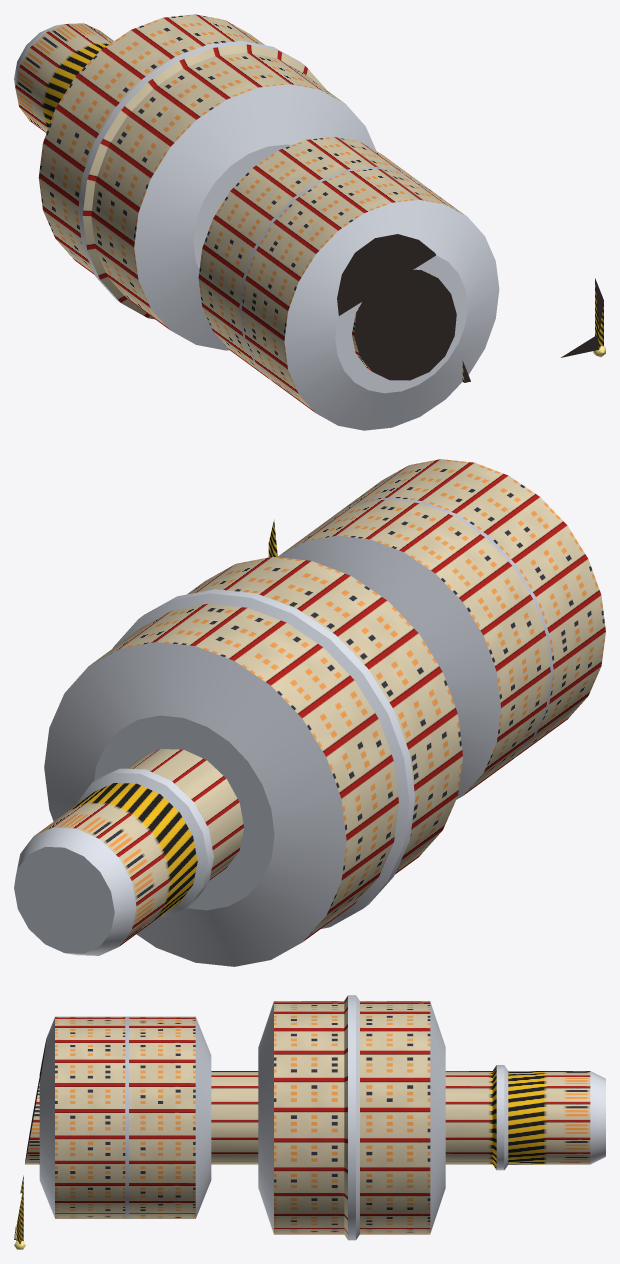
The model's file is manufacturing_center_build3_debris1.obj.
3 views of the same model, one above another, from view 1: azimuth 30°, elevation 25°; view 2: azimuth 150°, elevation 25°; view 3: azimuth 270°, elevation 25° (orthographic). The views are drawn at different scales.
Parts seen in each view (by area): view 1: smelter1, smelter2, spine, girder; view 2: smelter1, smelter2, spine; view 3: smelter1, smelter2, spine.
Part boxes in pixels (<box>): smelter1: <box>38,14,376,350</box>; smelter2: <box>198,137,499,430</box>; spine: <box>14,23,456,380</box>; girder: <box>462,278,603,382</box>; smelter1: <box>44,556,462,966</box>; smelter2: <box>277,459,605,799</box>; spine: <box>14,749,244,955</box>; smelter1: <box>258,995,445,1240</box>; smelter2: <box>39,1016,211,1218</box>; spine: <box>25,1065,605,1170</box>.
Bounding box in the file's own units: 77.64 × 63 × 152.
5 materials, 2 textured.
